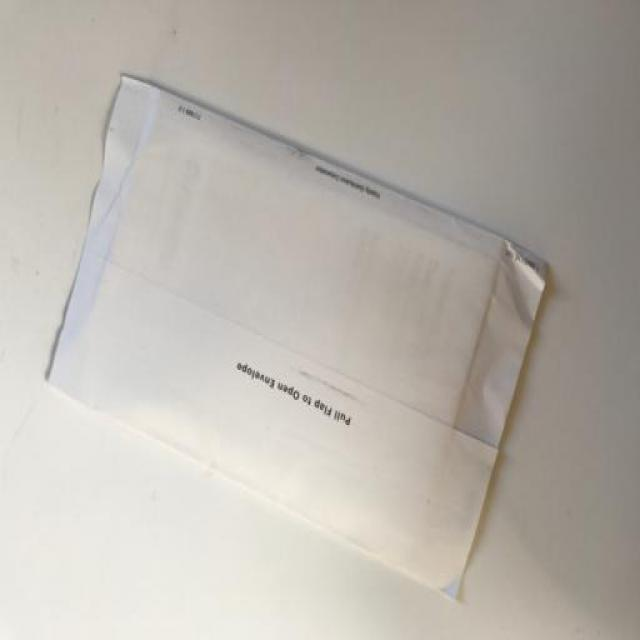paper: (77, 65, 536, 634)
